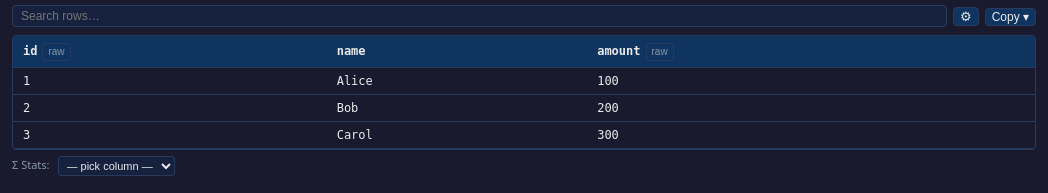
ResultsTable › stats bar shows column picker; selecting a column renders sum/avg/min/max
This screenshot has width=1048, height=193.
Expected: the text "Σ Stats:" is shown, [12,157,50,174]
Note: Pick the "amount" column
Select "amount" in the dropdown at (116, 166), box [58,156,174,176]
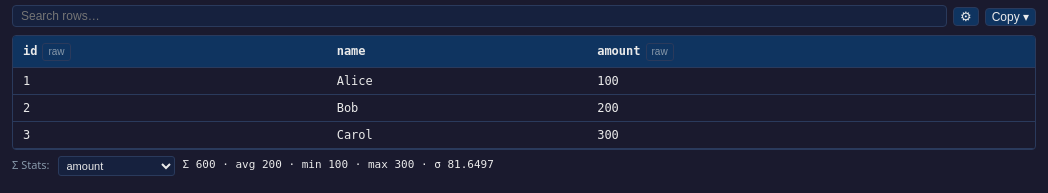
Result: the text "avg" is shown at [216,158,262,171]
Result: the text "min" is shown at [282,158,328,171]
Result: the text "max" is shown at [348,158,394,171]
